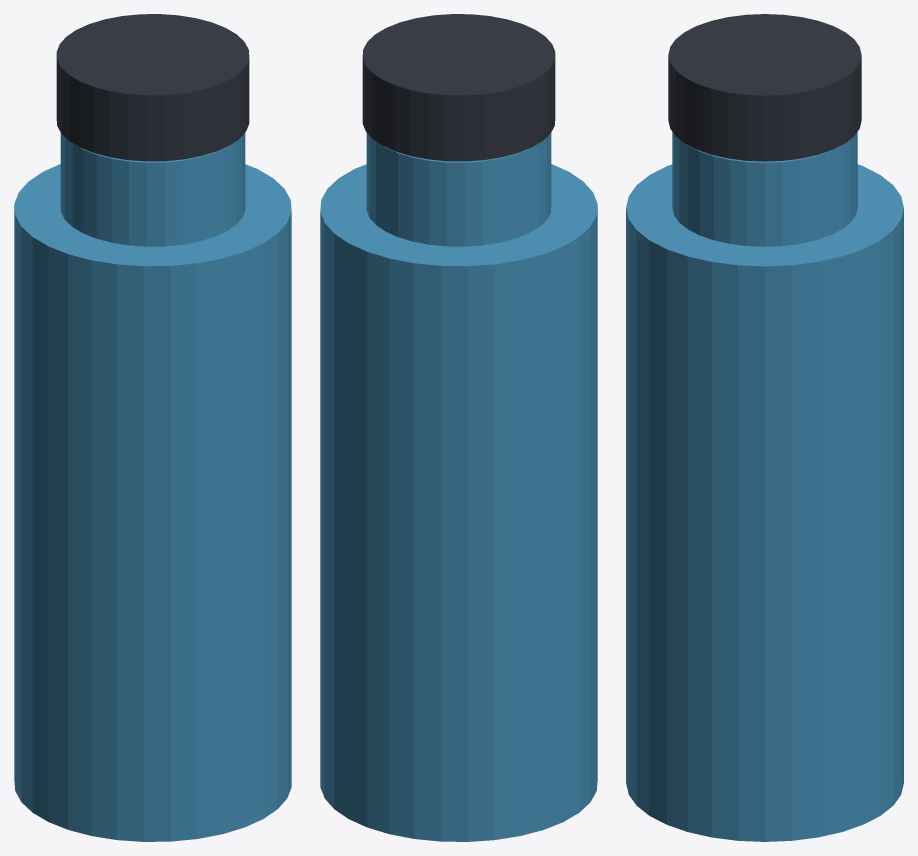
File: sports_water_bottle.glb
3 renders of one model, left to right at view 1: azimuth 30°, elevation 25°; view 2: azimuth 150°, elevation 25°; view 3: azimuth 270°, elevation 25°, orthographic.
Visible parts, largest first — view 1: Bottle_Body, Screw_Cap, Neck; view 2: Bottle_Body, Screw_Cap, Neck; view 3: Bottle_Body, Screw_Cap, Neck.
Part boxes in pixels (bbox=[...]): Bottle_Body: bbox=[14, 164, 291, 841]; Screw_Cap: bbox=[56, 14, 249, 161]; Neck: bbox=[60, 133, 245, 246]; Bottle_Body: bbox=[320, 164, 597, 841]; Screw_Cap: bbox=[362, 14, 555, 161]; Neck: bbox=[366, 133, 551, 246]; Bottle_Body: bbox=[626, 164, 903, 841]; Screw_Cap: bbox=[668, 14, 861, 161]; Neck: bbox=[672, 132, 857, 246].
Bounding box in the file's own units: 0.21 × 0.6075 × 0.21.
